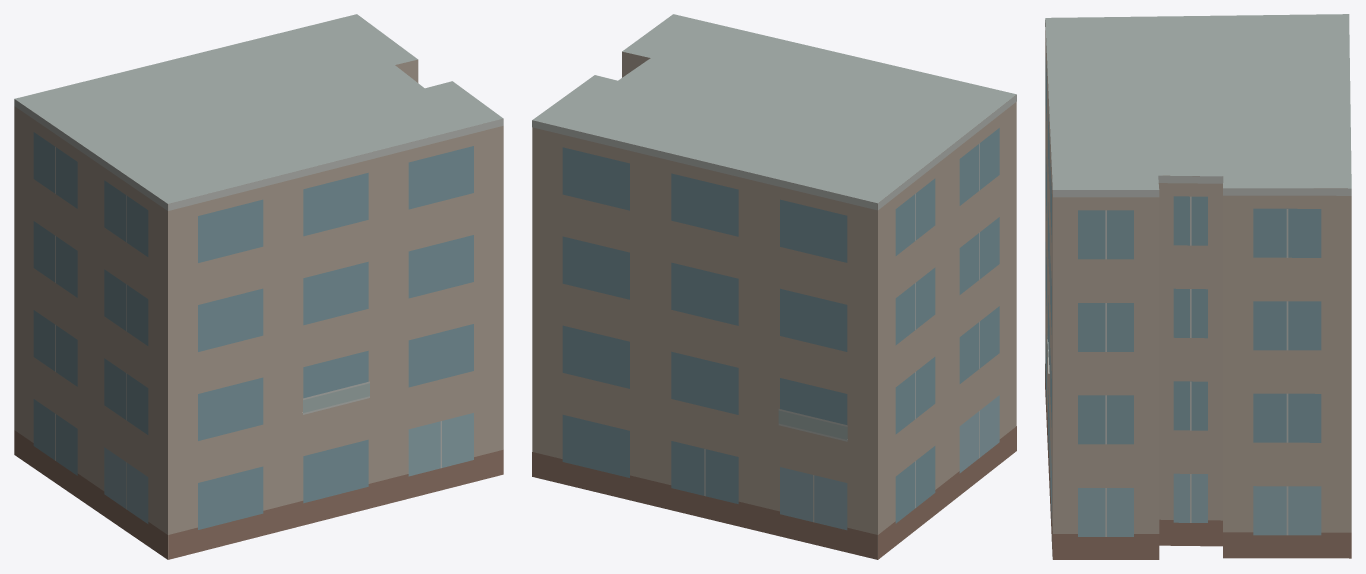
Rendered from survey-upis-32532534.glb.
3 views of the same model, side by side, from view 1: azimuth 30°, elevation 25°; view 2: azimuth 150°, elevation 25°; view 3: azimuth 270°, elevation 25° (orthographic). The views are drawn at different scales.
Parts seen in each view (by area): view 1: survey-upis-32532534.tmp; view 2: survey-upis-32532534.tmp; view 3: survey-upis-32532534.tmp.
Part boxes in pixels (x1=…): survey-upis-32532534.tmp: x1=14, y1=14, x2=503, y2=559; survey-upis-32532534.tmp: x1=532, y1=14, x2=1016, y2=559; survey-upis-32532534.tmp: x1=1045, y1=14, x2=1351, y2=559.
Bounding box in the file's own units: 12.46 × 12.2 × 9.17.
